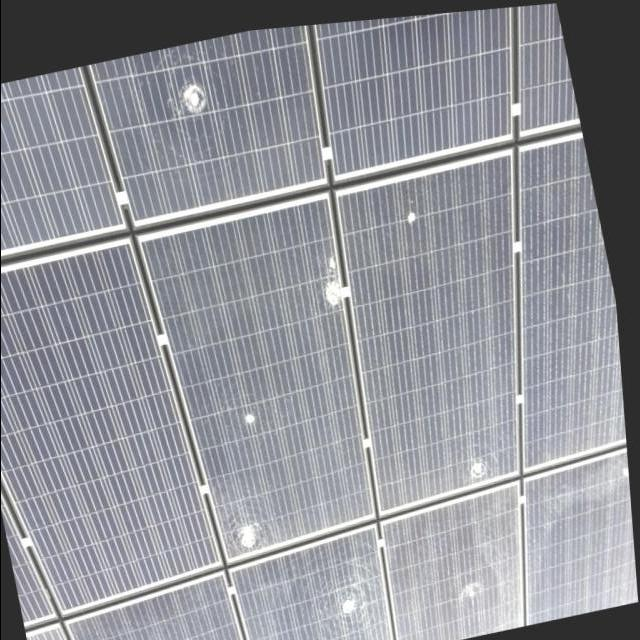cracked: (140, 214, 370, 548), (340, 166, 512, 496), (88, 38, 314, 198), (386, 502, 524, 640), (228, 568, 388, 640)
